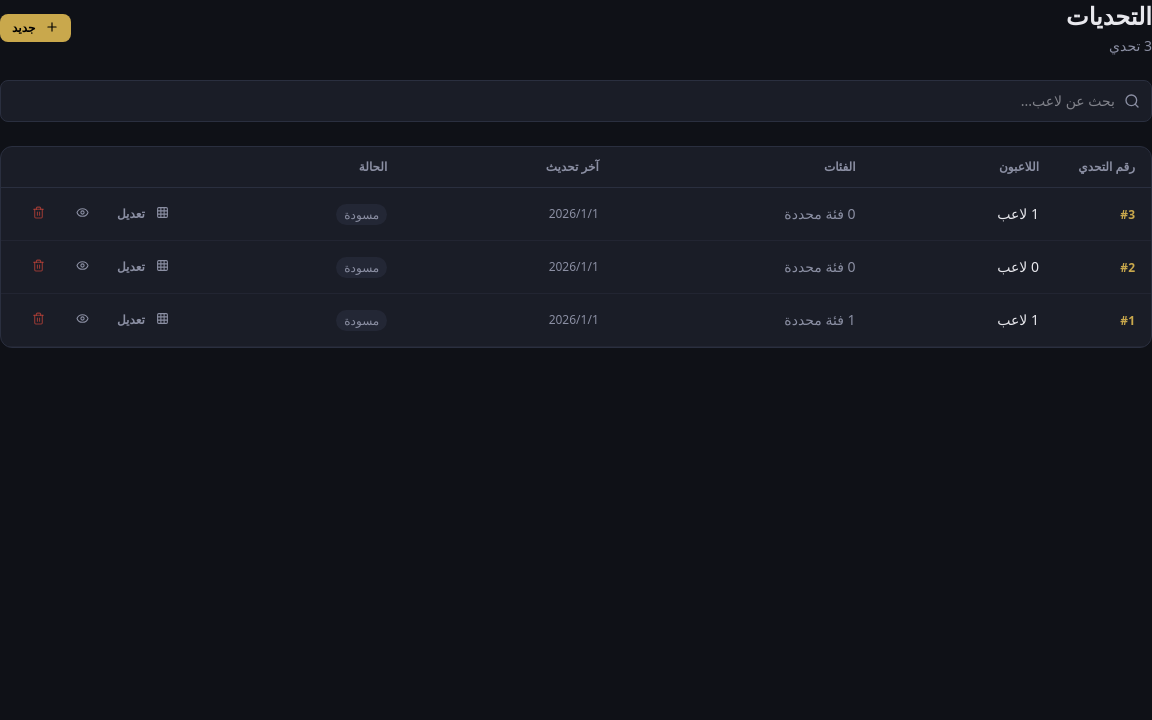
it: Challenges Page › shows new challenge modal when clicking جديد
Click the button "جديد" at (36, 28), box x1=0 y1=14 x2=71 y2=42
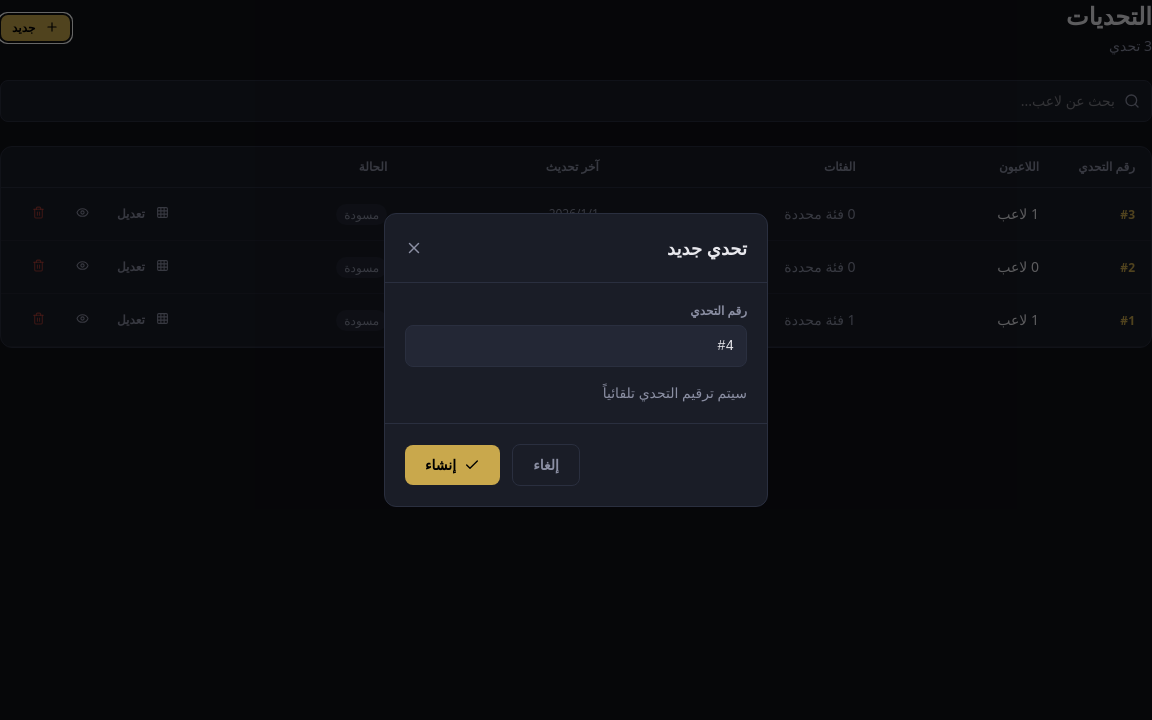
Check: the heading "تحدي جديد" is shown, box x1=667 y1=234 x2=747 y2=262
